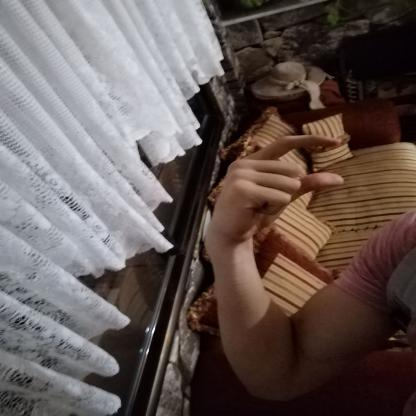DELL: (201, 128, 361, 250)
